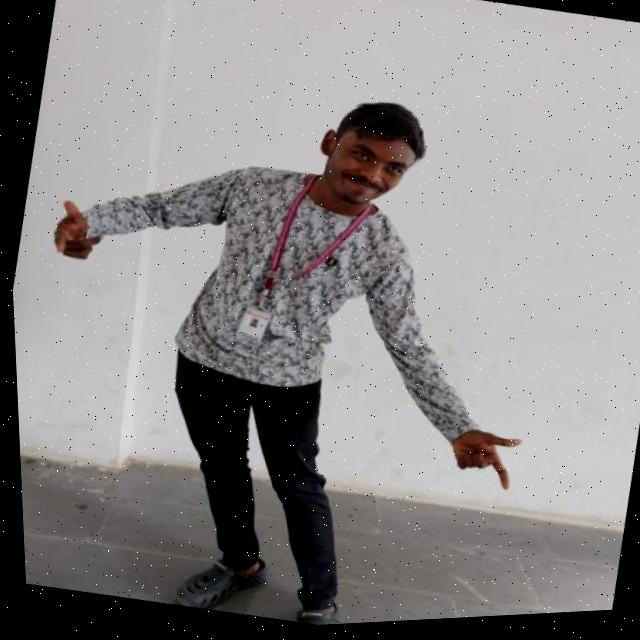id_card: (215, 163, 385, 364)
